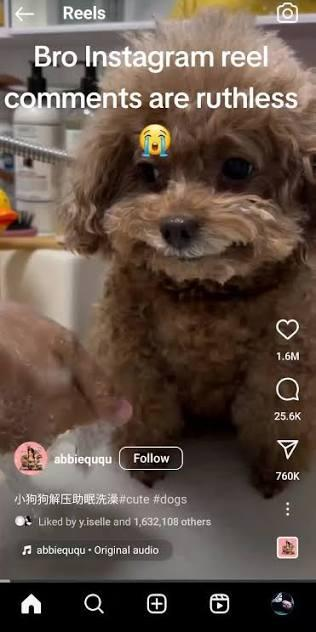puppy-dog: (48, 5, 316, 502)
